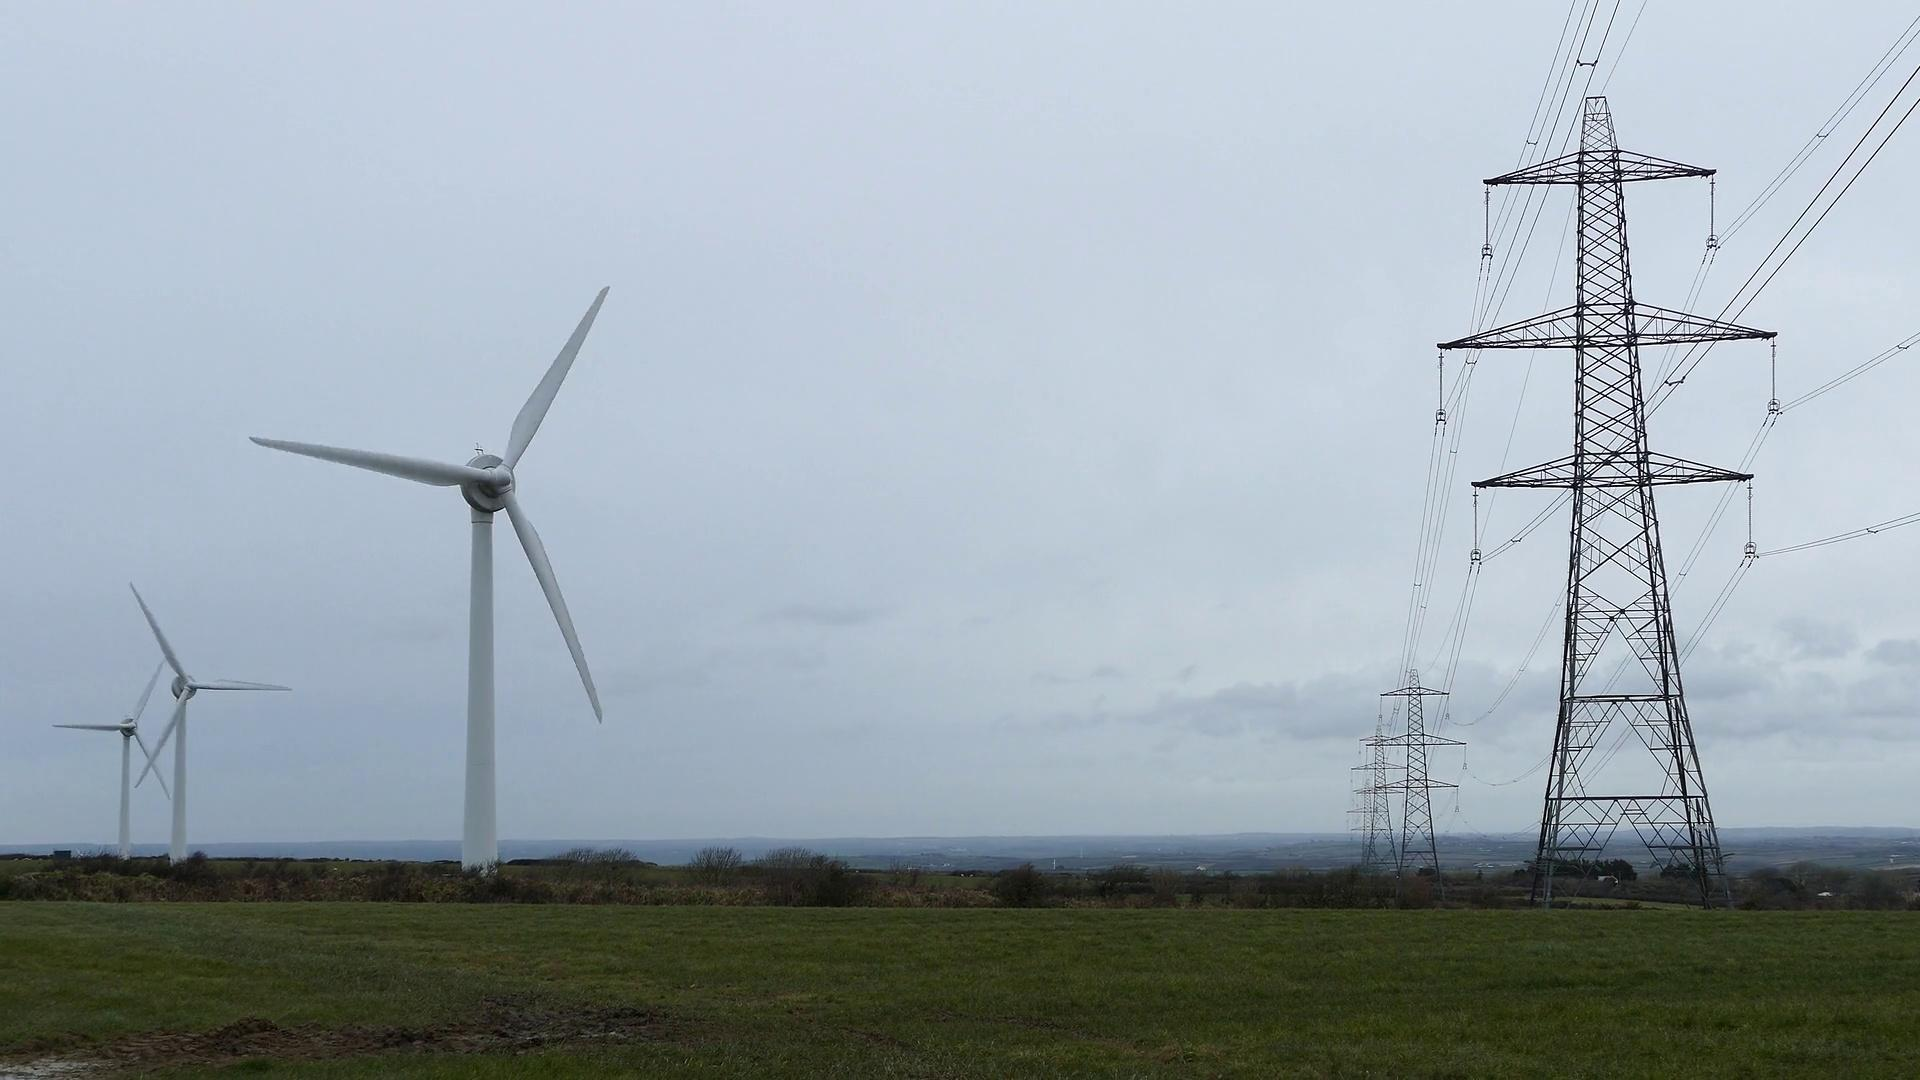cable tower: (1432, 94, 1775, 914), (1375, 665, 1466, 905), (1357, 723, 1408, 889), (1346, 785, 1393, 884)
turbine: (218, 175, 740, 949), (63, 579, 293, 918), (37, 633, 193, 887)
